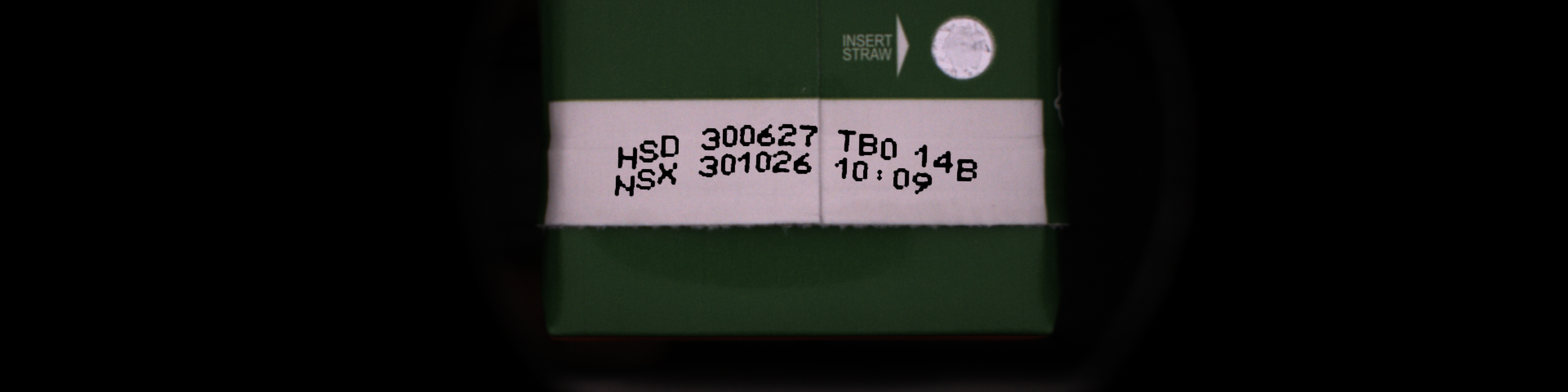date: (954, 156, 980, 185), (931, 147, 955, 176), (657, 159, 681, 188), (797, 122, 821, 150), (910, 170, 934, 198), (637, 137, 660, 166), (792, 148, 815, 177), (611, 172, 636, 198), (615, 143, 638, 171), (834, 127, 857, 155), (697, 153, 720, 181), (770, 147, 792, 176), (776, 121, 798, 149), (857, 131, 879, 159), (699, 125, 720, 152), (756, 122, 776, 150), (912, 142, 931, 171), (878, 135, 899, 161), (635, 166, 656, 192), (660, 132, 680, 159), (720, 123, 739, 151), (891, 165, 910, 193), (719, 150, 737, 178), (753, 148, 771, 176), (851, 158, 870, 184), (833, 155, 850, 182), (739, 123, 755, 150), (737, 150, 753, 176), (872, 162, 887, 185)
